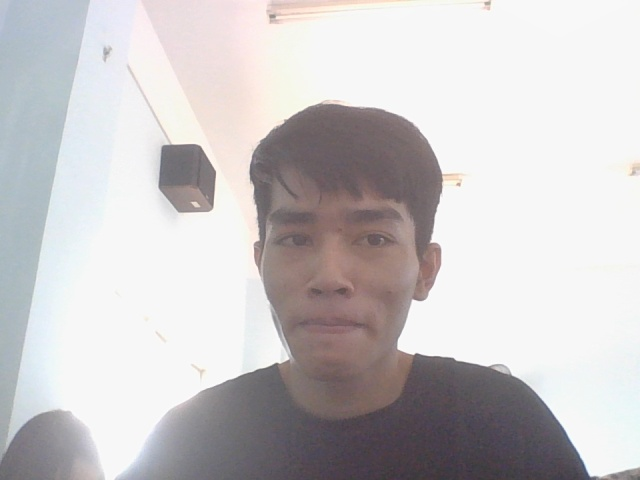real: (234, 87, 454, 399)
